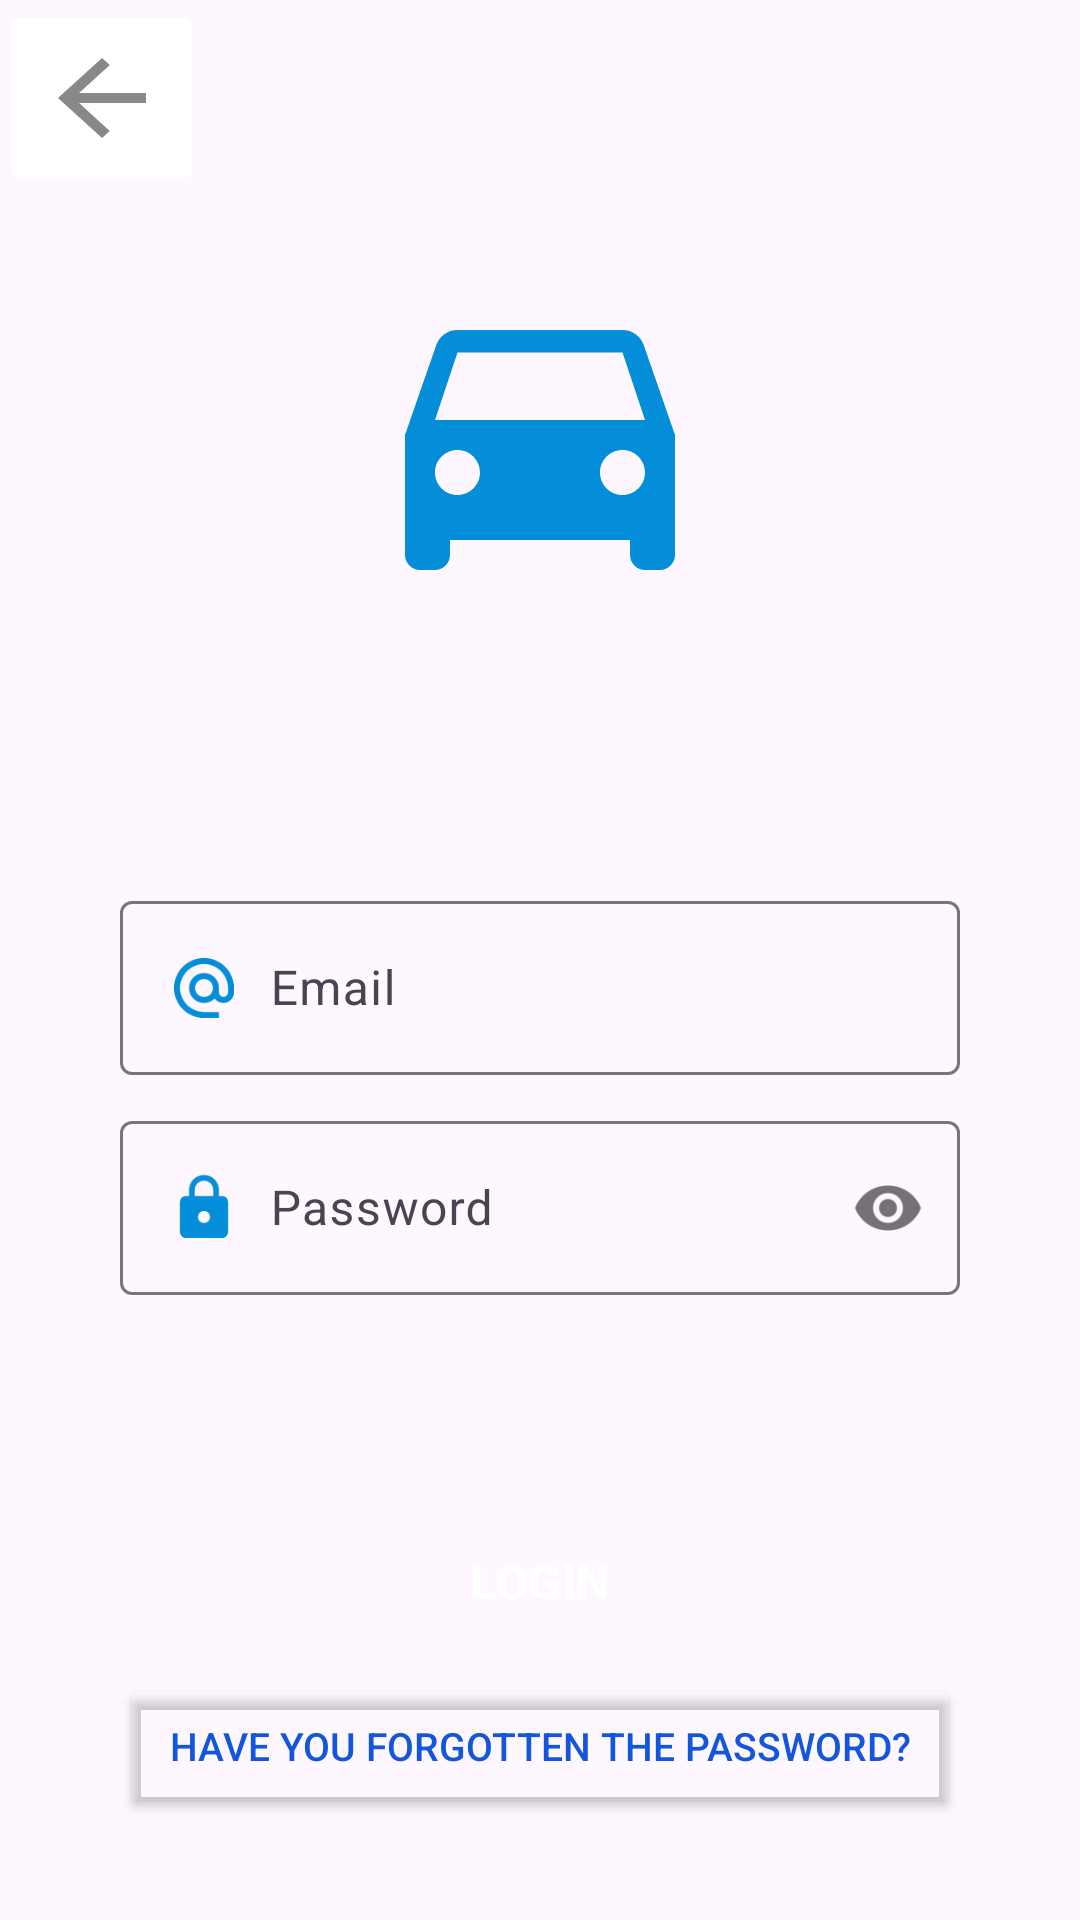

Icon bounding boxes for this 1080x1920 phone screenshot, format [left=x1, top=y1, right=x2, bottom=y2]:
go back: [left=58, top=58, right=146, bottom=138]
